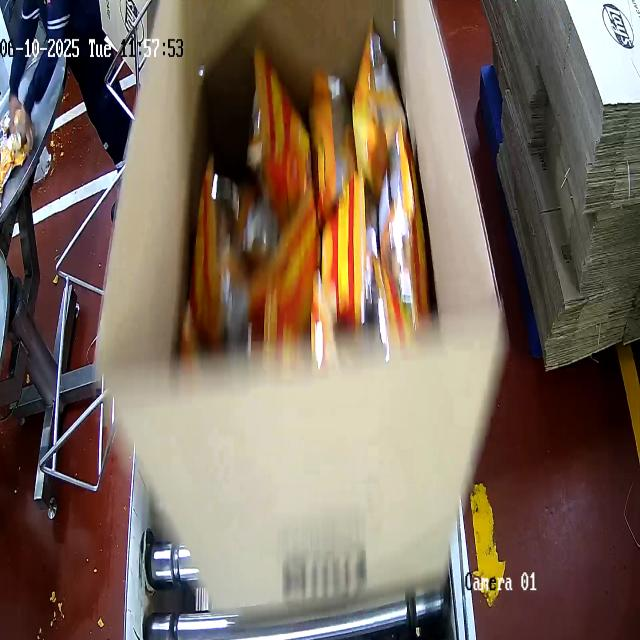FRENCH_CHEESE: (192, 42, 419, 330)
